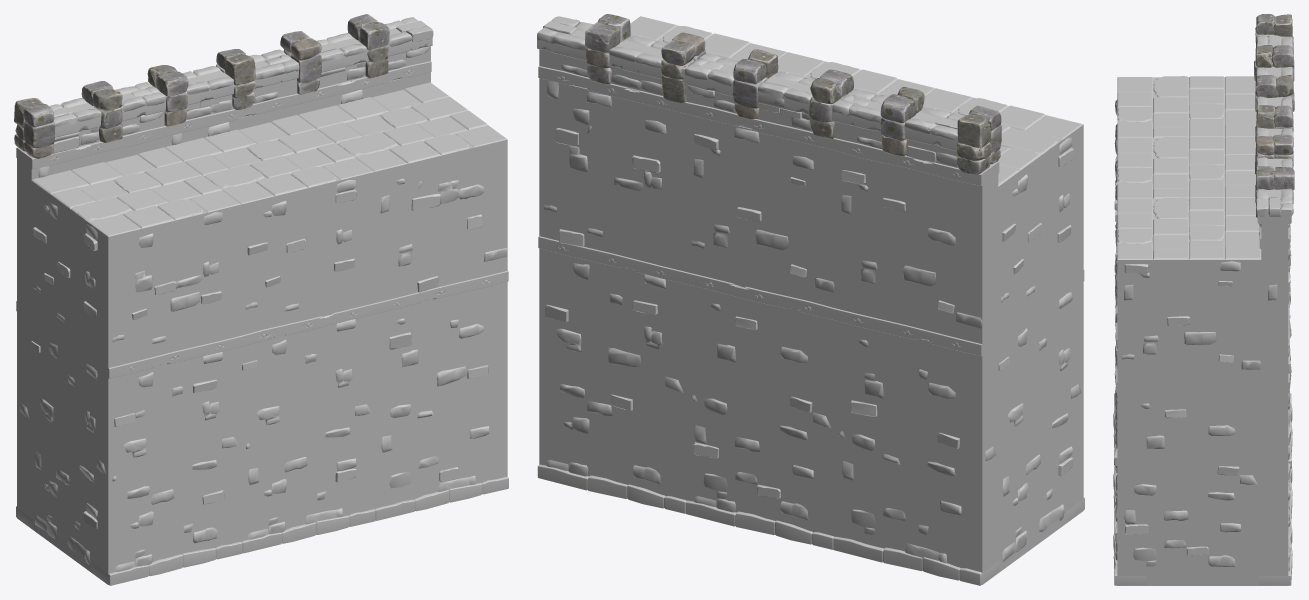
3 views of the same model, side by side, from view 1: azimuth 30°, elevation 25°; view 2: azimuth 150°, elevation 25°; view 3: azimuth 270°, elevation 25° (orthographic). The views are drawn at different scales.
Visible parts, largest first — view 1: SM_Castle_Wall_4x12_01_v5_LOD0; view 2: SM_Castle_Wall_4x12_01_v5_LOD0; view 3: SM_Castle_Wall_4x12_01_v5_LOD0.
Part boxes in pixels (left/top/right/bottom): SM_Castle_Wall_4x12_01_v5_LOD0: left=14, top=14, right=508, bottom=585; SM_Castle_Wall_4x12_01_v5_LOD0: left=537, top=14, right=1084, bottom=585; SM_Castle_Wall_4x12_01_v5_LOD0: left=1113, top=14, right=1294, bottom=585.
Size of the model in its own units: 12.2 by 12 by 5.04.
